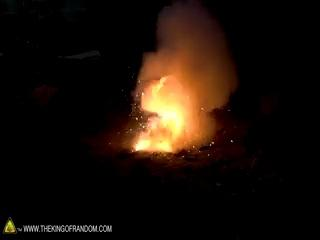Fire: (133, 74, 182, 153)
